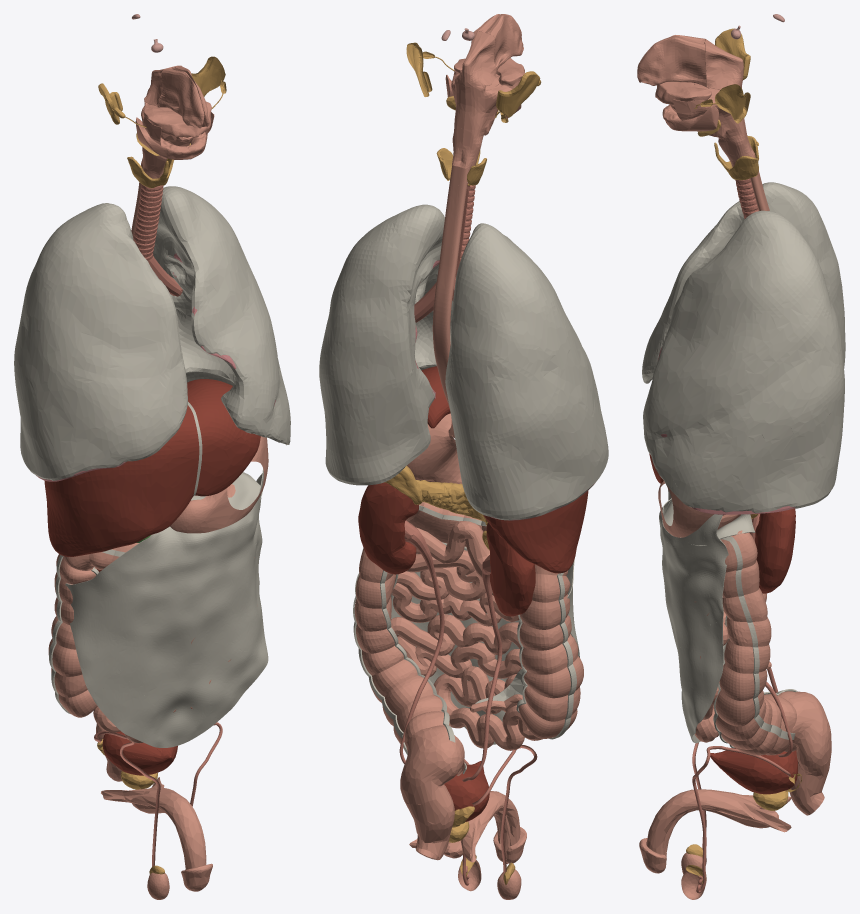
File: visceral.glb
3 renders of one model, left to right at view 1: azimuth 30°, elevation 25°; view 2: azimuth 150°, elevation 25°; view 3: azimuth 270°, elevation 25°, orthographic. The views are drawn at different scales.
Visible parts, largest first — view 1: Pleura, Greater_omentum, Liver, Ascending_colon, Corpus_cavernosum_of_penis, Stomach, Gingiva, Mucosa_of_nasal_cavity, Urinary_bladder, Trachea, Mesocolon, Parotid_gland|l (+5 smaller); view 2: Pleura, Jejunum, Ascending_colon, Descending_colon, Sigmoid_colon, Liver, Kidney|l, Oesophagus, Kidney|r, Stomach, Oropharynx, Corpus_cavernosum_of_penis (+20 smaller); view 3: Pleura, Greater_omentum, Descending_colon, Sigmoid_colon, Corpus_cavernosum_of_penis, Mucosa_of_nasal_cavity, Kidney|l, Urinary_bladder, Gingiva, Mesocolic_taenia, Nasopharynx, Stomach (+13 smaller).
Boxes of the visible parts, x1,y1,x2,y2 form: Pleura: [14, 186, 290, 480]; Greater_omentum: [65, 468, 268, 747]; Liver: [44, 379, 260, 556]; Ascending_colon: [48, 554, 97, 717]; Corpus_cavernosum_of_penis: [101, 777, 206, 869]; Stomach: [170, 436, 268, 533]; Gingiva: [135, 101, 211, 159]; Mucosa_of_nasal_cavity: [159, 65, 210, 128]; Urinary_bladder: [102, 731, 177, 775]; Trachea: [133, 184, 163, 260]; Mesocolon: [227, 472, 262, 531]; Parotid_gland|l: [191, 56, 225, 96]; Pleura: [319, 204, 608, 520]; Jejunum: [391, 527, 542, 750]; Ascending_colon: [518, 564, 583, 738]; Descending_colon: [354, 548, 464, 775]; Sigmoid_colon: [400, 728, 464, 860]; Liver: [421, 366, 588, 573]; Kidney|l: [358, 482, 418, 574]; Oesophagus: [432, 165, 469, 438]; Kidney|r: [486, 523, 535, 616]; Stomach: [407, 413, 462, 483]; Oropharynx: [451, 71, 520, 129]; Corpus_cavernosum_of_penis: [409, 791, 520, 862]; Pleura: [642, 182, 845, 513]; Greater_omentum: [659, 489, 728, 743]; Descending_colon: [715, 530, 796, 755]; Sigmoid_colon: [788, 691, 831, 815]; Corpus_cavernosum_of_penis: [646, 789, 791, 854]; Mucosa_of_nasal_cavity: [637, 35, 706, 86]; Kidney|l: [755, 508, 795, 593]; Urinary_bladder: [710, 748, 797, 794]; Gingiva: [655, 82, 718, 131]; Mesocolic_taenia: [720, 536, 795, 739]; Nasopharynx: [705, 39, 743, 89]; Stomach: [658, 481, 740, 537].
Size of the model in its own units: 0.27 by 0.9158 by 0.1975.
